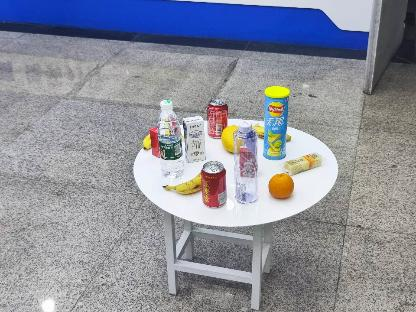Can: (202, 160, 228, 212), (209, 100, 228, 136)
Others: (262, 85, 288, 159), (185, 117, 209, 167)
Plastic Bottle: (234, 122, 262, 210), (156, 96, 186, 178)
